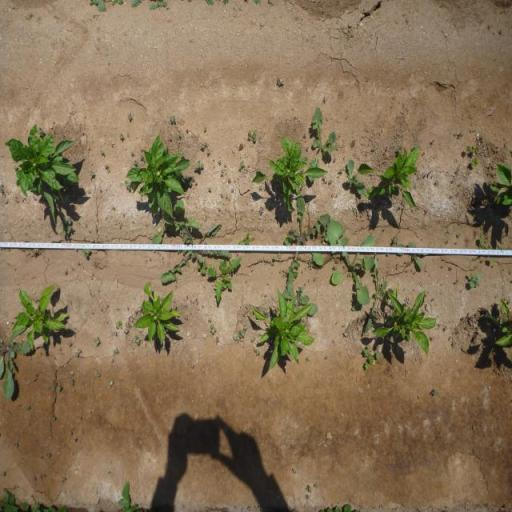plant: (5, 122, 81, 225), (249, 135, 329, 213), (126, 133, 193, 219), (252, 289, 316, 374), (371, 285, 438, 356), (10, 280, 70, 351), (356, 148, 421, 210), (134, 277, 184, 346), (489, 161, 512, 208), (497, 298, 512, 347)
weed: (326, 215, 377, 314), (159, 223, 232, 286), (283, 197, 330, 288), (362, 254, 393, 337), (149, 199, 202, 245), (0, 330, 31, 404), (307, 106, 337, 168), (207, 256, 242, 306), (281, 281, 318, 317), (396, 242, 430, 271), (345, 159, 367, 197), (478, 236, 496, 266), (362, 345, 380, 371), (0, 486, 18, 511), (463, 146, 479, 170), (60, 216, 75, 238), (468, 270, 482, 290), (90, 0, 107, 13), (149, 0, 169, 10), (236, 231, 250, 245), (196, 263, 210, 276), (246, 129, 257, 144), (234, 330, 246, 342), (275, 76, 286, 88), (188, 176, 197, 188), (134, 334, 142, 347), (252, 348, 262, 358), (194, 160, 204, 170), (81, 248, 91, 258), (114, 320, 122, 331), (199, 141, 208, 150), (281, 268, 289, 278), (209, 325, 217, 334), (124, 179, 130, 191), (308, 256, 313, 270), (75, 348, 82, 358), (305, 484, 312, 494), (431, 389, 439, 397), (392, 234, 398, 244), (322, 232, 328, 242), (93, 336, 99, 346), (139, 154, 145, 164), (170, 114, 176, 124), (38, 126, 44, 136), (238, 160, 244, 170), (238, 142, 244, 152), (338, 167, 345, 174), (112, 348, 119, 355), (313, 483, 320, 490), (255, 505, 262, 512), (332, 264, 338, 272), (350, 139, 356, 147), (242, 323, 248, 331), (70, 378, 76, 386), (396, 146, 402, 153), (31, 248, 38, 254), (55, 385, 62, 391), (434, 180, 439, 188), (128, 112, 133, 120), (106, 163, 110, 173), (450, 342, 456, 348), (456, 232, 462, 238), (132, 160, 138, 166), (66, 341, 72, 347), (215, 336, 220, 343), (184, 314, 189, 321), (206, 148, 210, 156), (51, 414, 55, 422), (180, 151, 184, 159), (250, 337, 256, 342), (119, 134, 124, 140), (90, 171, 95, 177), (292, 468, 297, 474), (190, 363, 195, 369), (124, 328, 128, 335), (178, 131, 182, 138), (306, 494, 310, 501), (305, 357, 310, 362), (466, 325, 470, 331), (246, 506, 252, 510), (208, 187, 212, 192), (130, 151, 134, 156), (100, 150, 104, 155), (62, 477, 66, 482), (203, 127, 206, 133)
